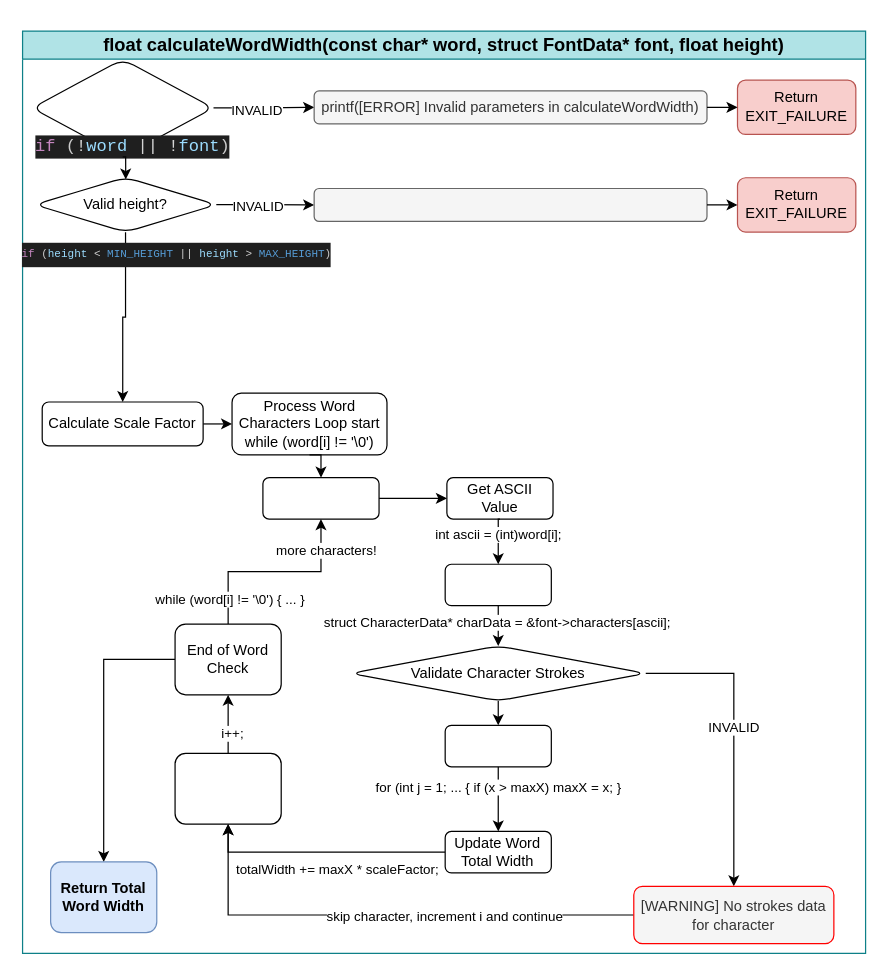
Image size: 887x975. Some labels were removed from this diagram. Here are the shapes that lost their labels. From the top down, the box of each, then its label:
(31, 58, 214, 157): Valid Parameters?
(313, 187, 707, 221): printf(Error: Height %.2f outisde valid range)
(262, 476, 379, 519): Read Next Char
(444, 563, 551, 606): Retrieve Character Data
(444, 724, 551, 767): Find Max X-Coordinate
(174, 752, 281, 824): Increment Character Index
